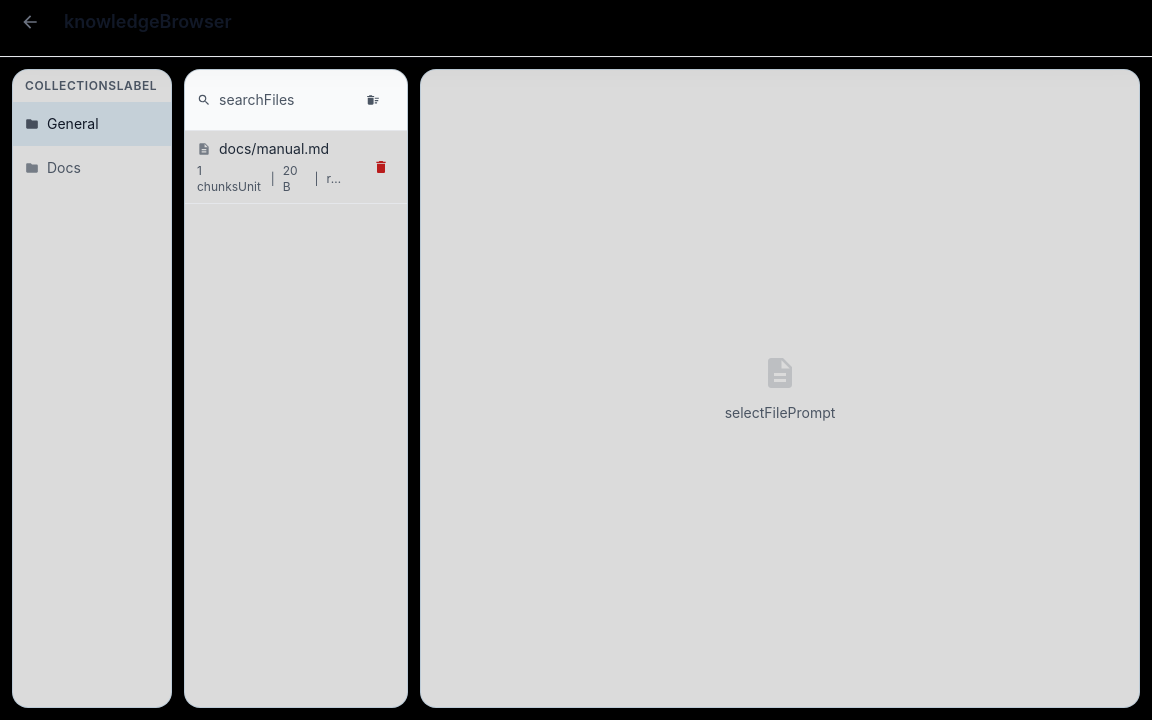
Test case: KnowledgeBrowser request races › uses an accessible modal and restores focus when source deletion is cancelled
Step 1. Click the button named "delete docs/manual.md" → (381, 167), box [359,145,403,189]
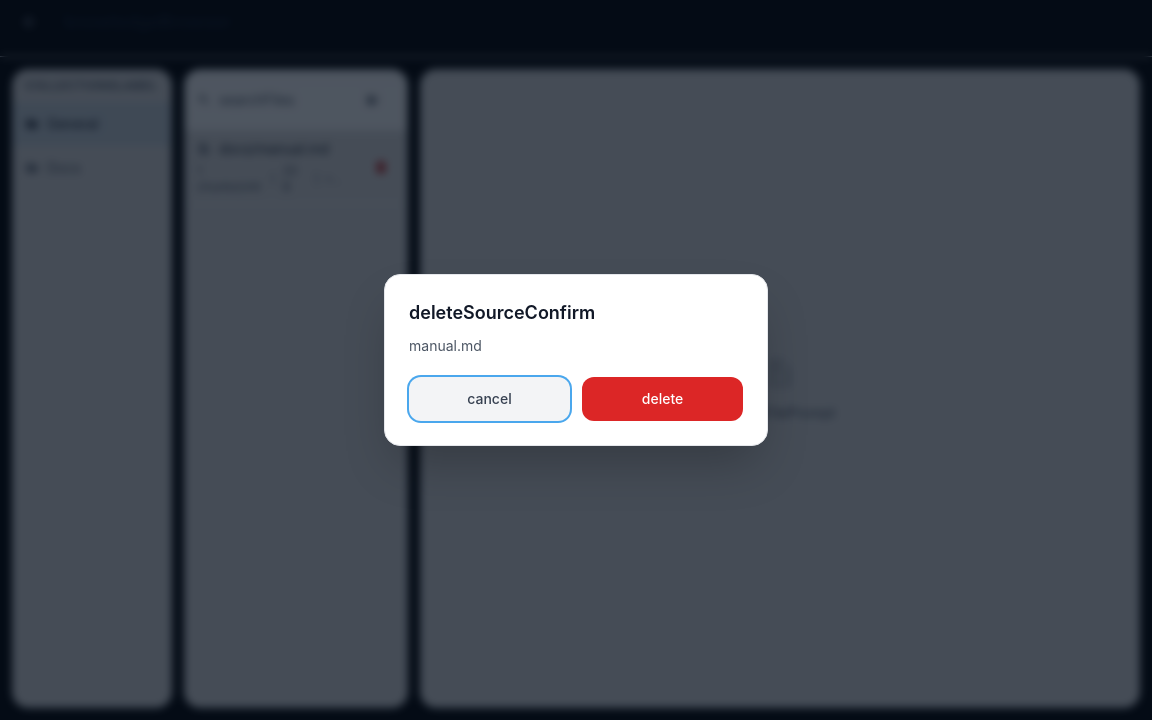
expect the dialog "deleteSourceConfirm" is shown: met, box [384,274,768,446]
Step 2. Press Escape
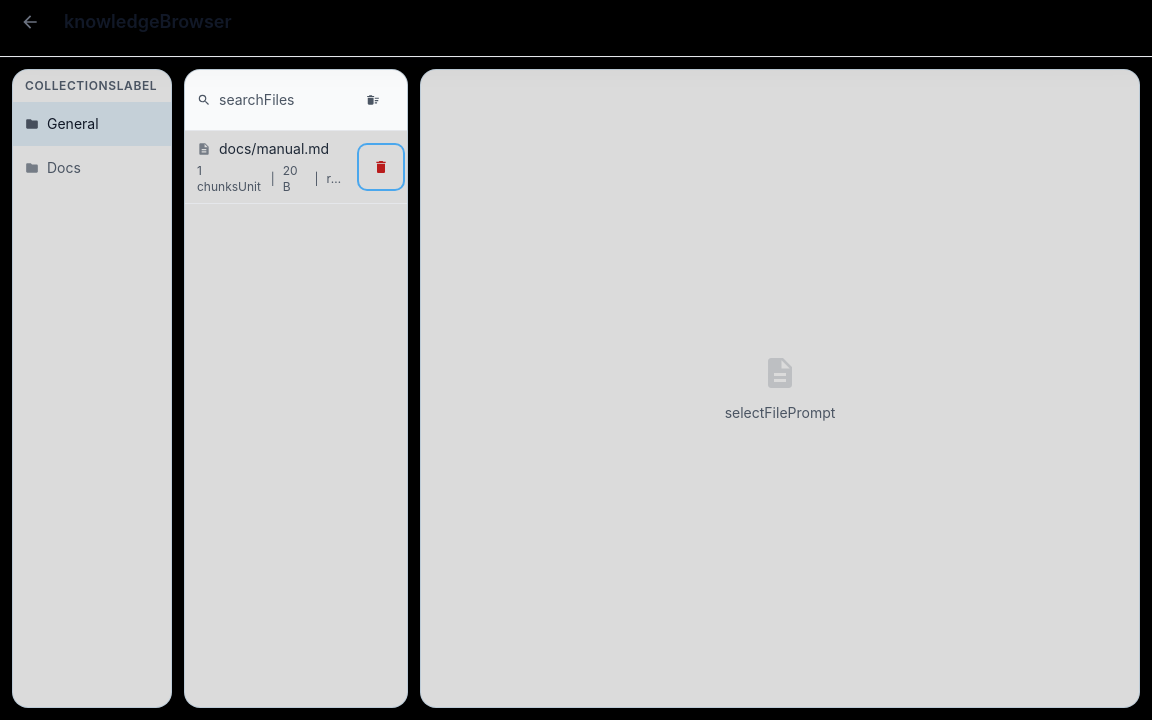
expect the dialog is gone: met
